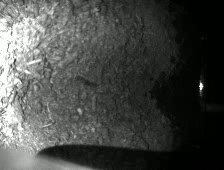corn: (76, 107, 85, 115)
